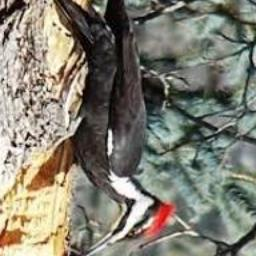Woodpecker: (45, 0, 173, 256)
